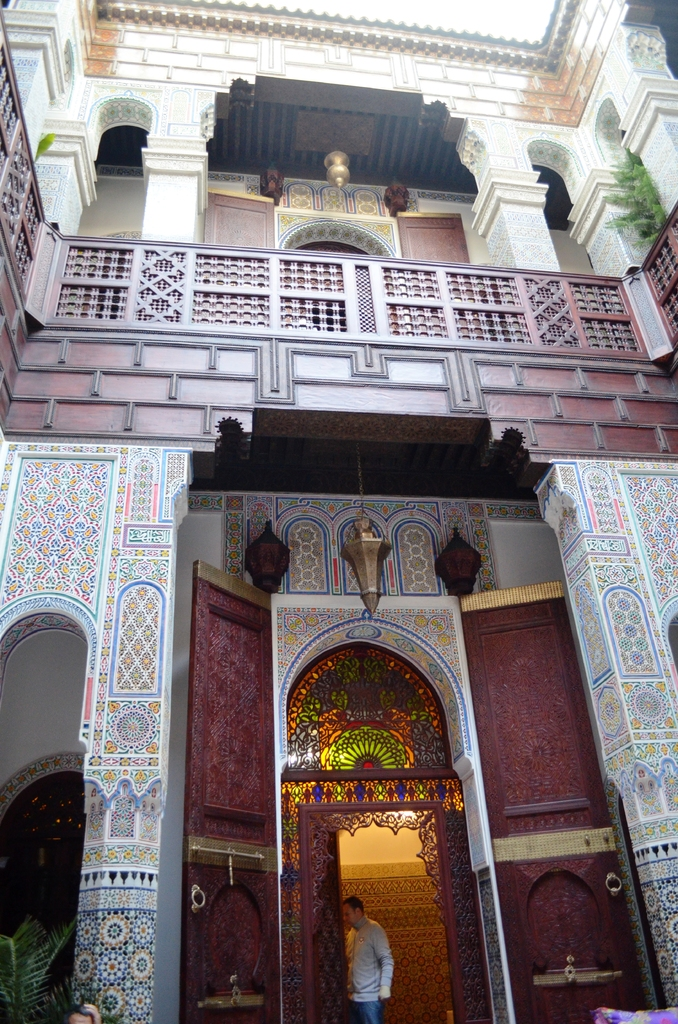Door: (300, 802, 462, 1023), (0, 770, 92, 1023), (286, 242, 405, 338)
